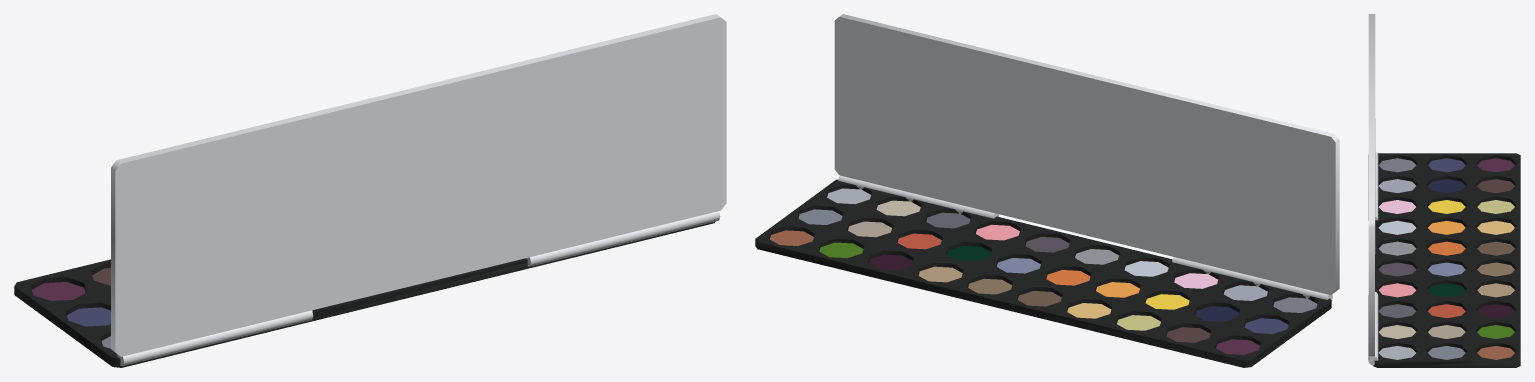
Rendered from make_up_pallete_open_006.glb.
3 renders of one model, left to right at view 1: azimuth 30°, elevation 25°; view 2: azimuth 150°, elevation 25°; view 3: azimuth 270°, elevation 25°, orthographic. The views are drawn at different scales.
Visible parts, largest first — view 1: make up_pallete_open.006; view 2: make up_pallete_open.006; view 3: make up_pallete_open.006.
Boxes of the visible parts, bbox=[...] form: make up_pallete_open.006: bbox=[14, 14, 726, 367]; make up_pallete_open.006: bbox=[755, 14, 1339, 367]; make up_pallete_open.006: bbox=[1368, 14, 1520, 367].
Bounding box in the file's own units: 46.43 × 15.05 × 14.21.
2 materials, 2 textured.
